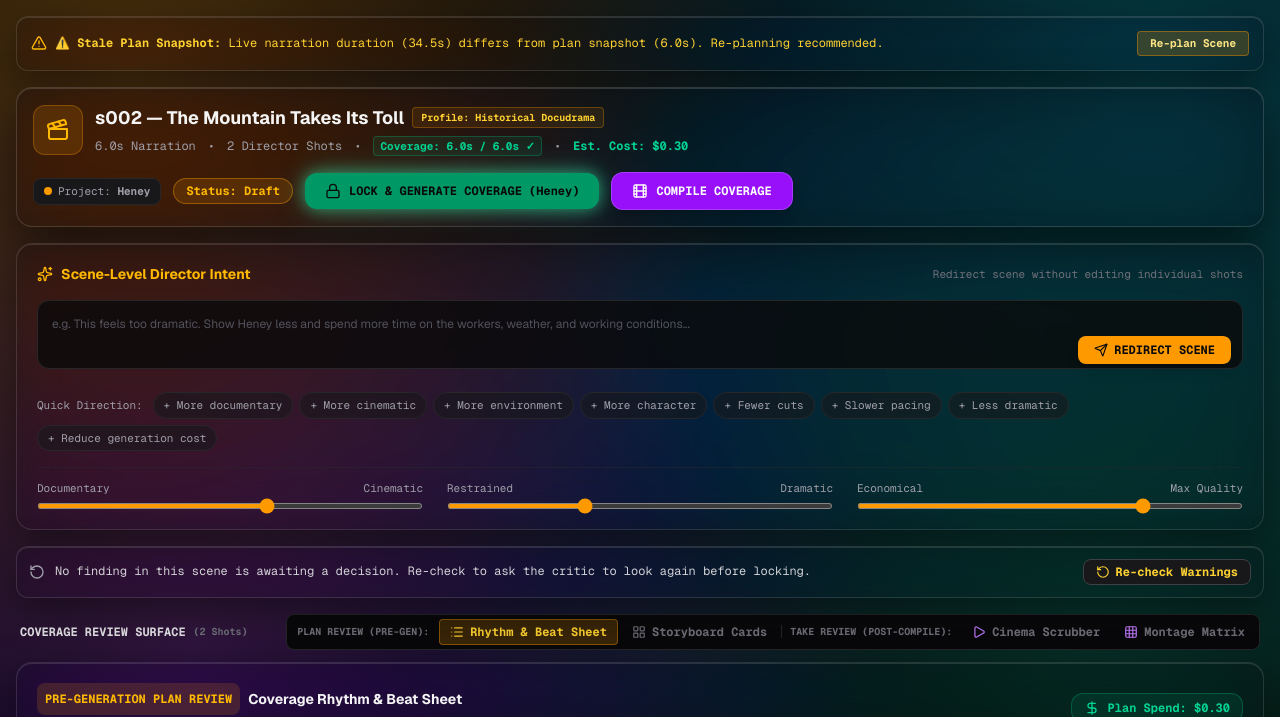
Scenario: the re-plan outcome survives the banner that started it › a request that never started is reported too
Click the button with test id "replan-stale". click: x=1193, y=43
box: [1137,31,1249,56]
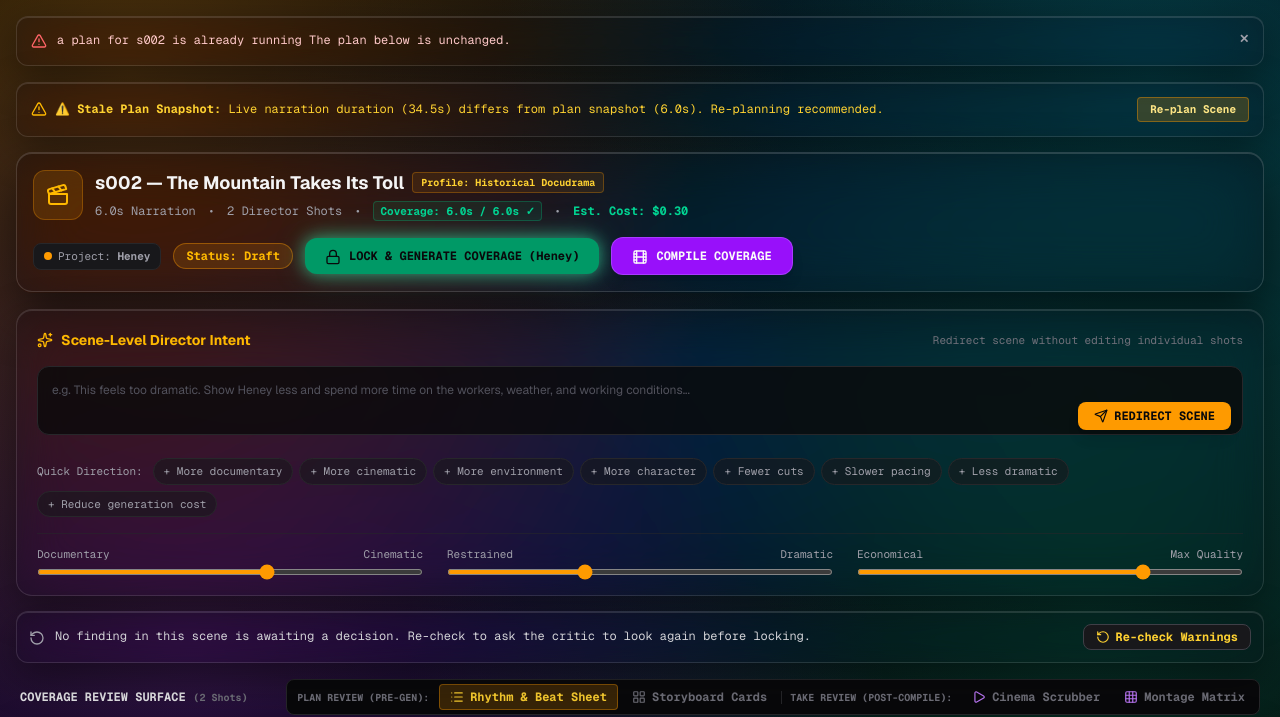
Now the text "a plan for s002 is already running" is shown, box [57,32,511,48]
